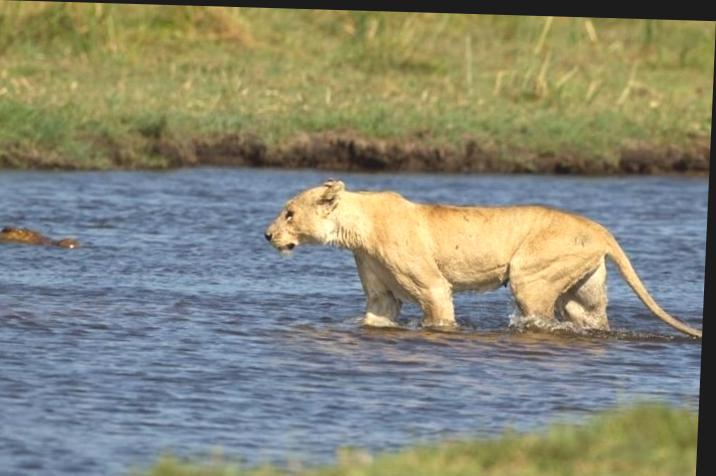lioness: (263, 169, 710, 345)
